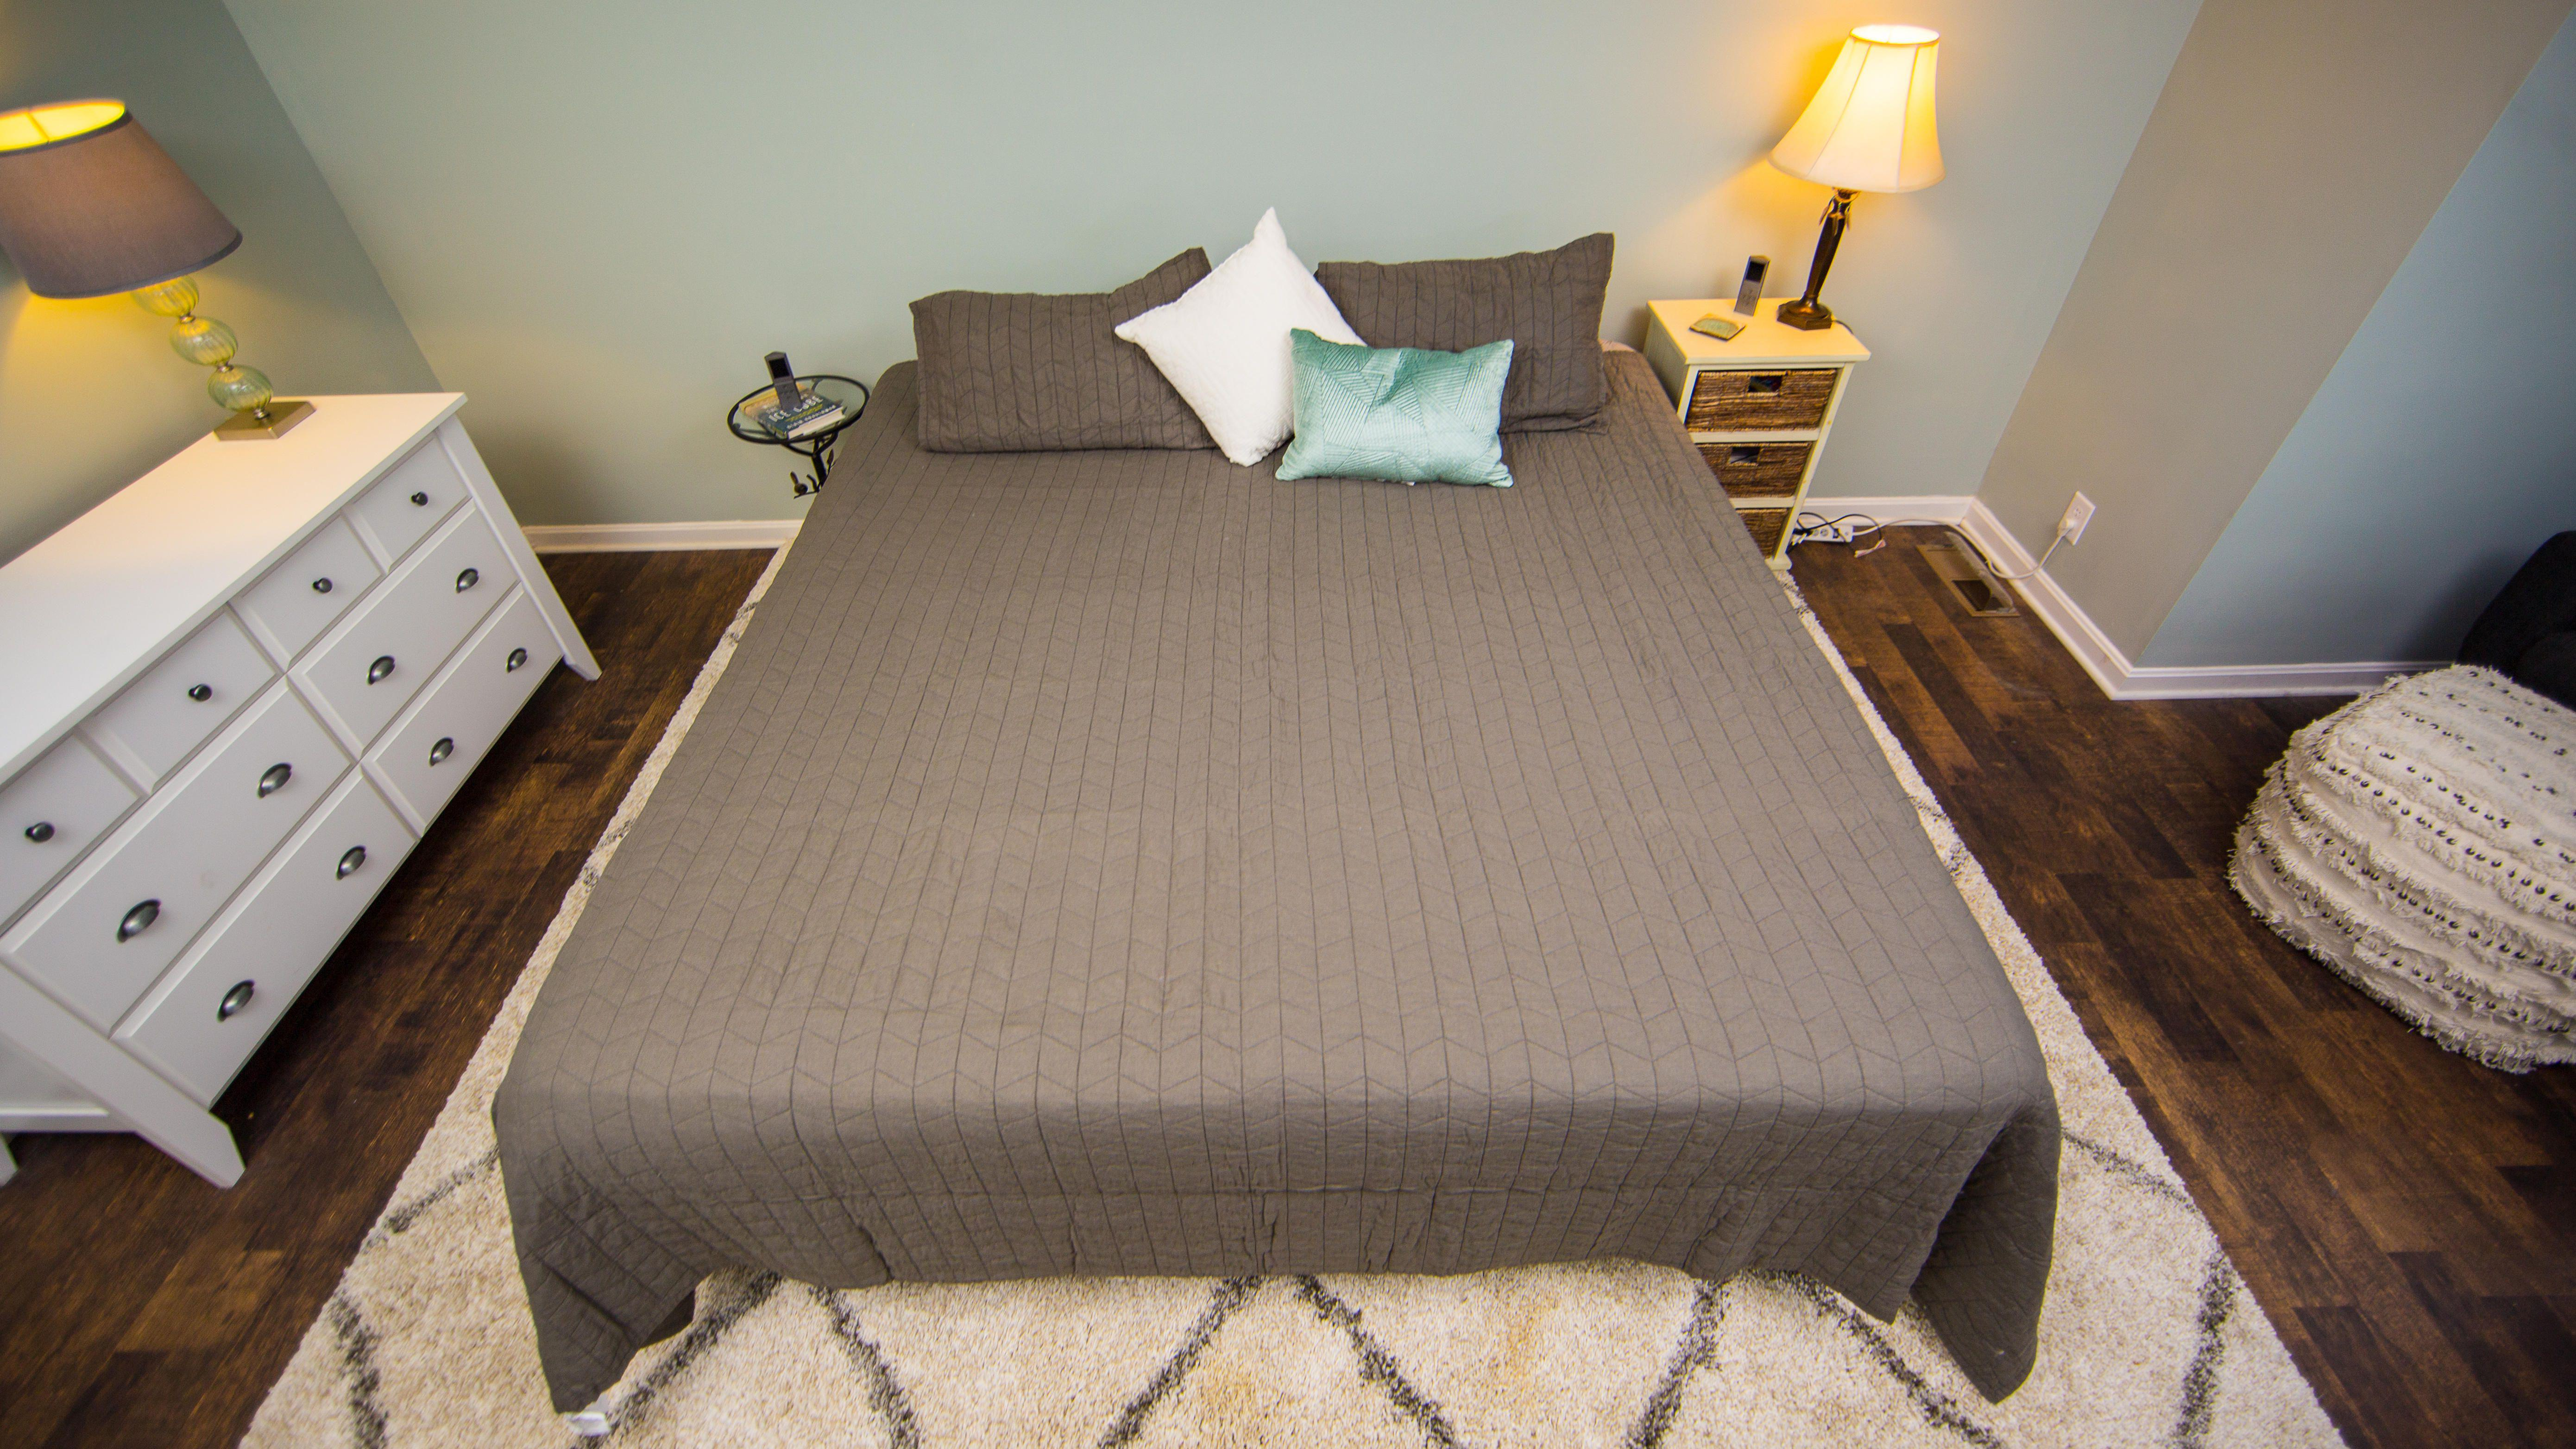bed: (497, 172, 2235, 1385)
